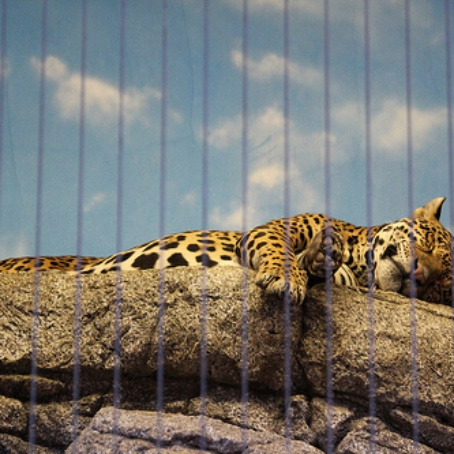animal: (1, 186, 450, 313)
rocks: (23, 267, 454, 454)
sky: (8, 1, 454, 227)
